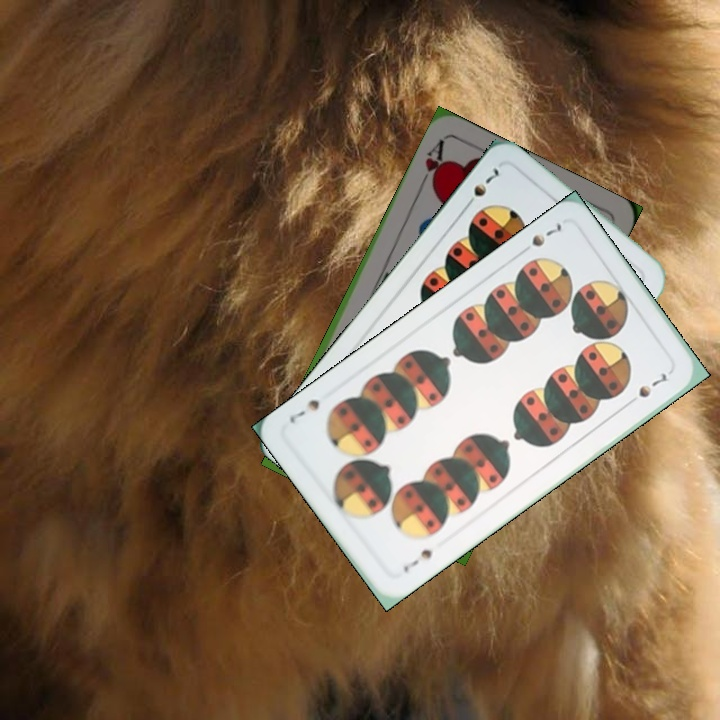HA: (415, 135, 449, 192)
S7: (460, 163, 506, 211), (527, 217, 565, 250), (399, 545, 435, 575)
